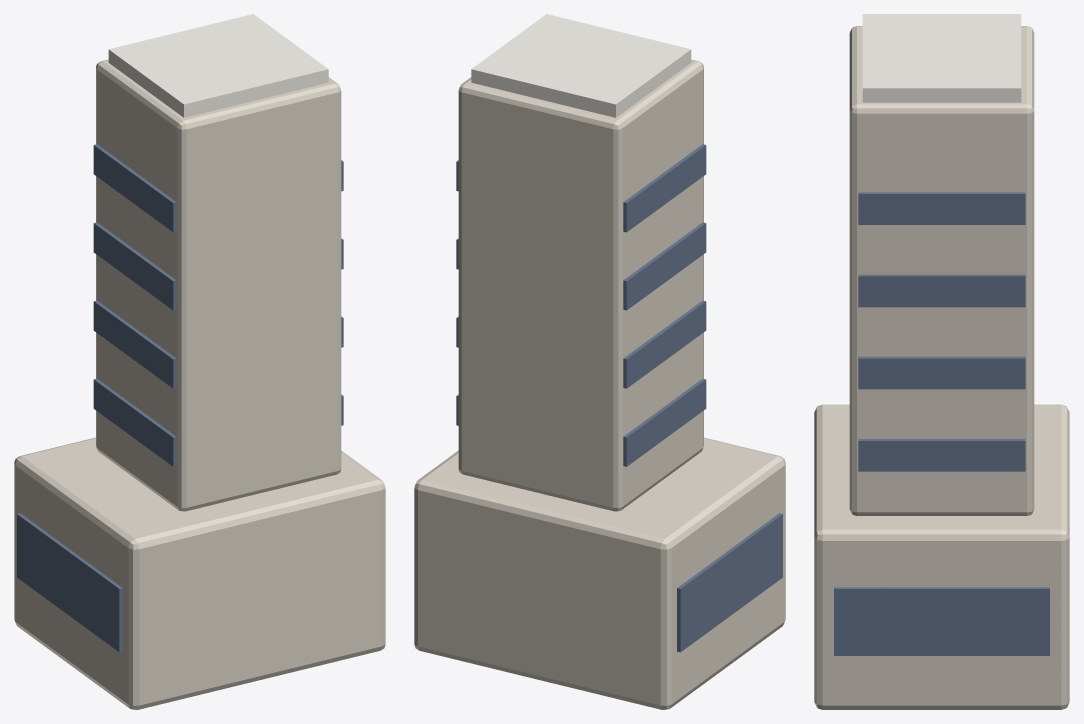
File: building_b.glb
3 views of the same model, side by side, from view 1: azimuth 30°, elevation 25°; view 2: azimuth 150°, elevation 25°; view 3: azimuth 270°, elevation 25° (orthographic). The views are drawn at different scales.
Parts seen in each view (by area): view 1: BuildingB; view 2: BuildingB; view 3: BuildingB.
Part boxes in pixels (bbox=[...]): BuildingB: bbox=[14, 14, 385, 709]; BuildingB: bbox=[414, 14, 785, 709]; BuildingB: bbox=[814, 14, 1069, 709].
Size of the model in its own units: 11.3 by 23.55 by 9.
